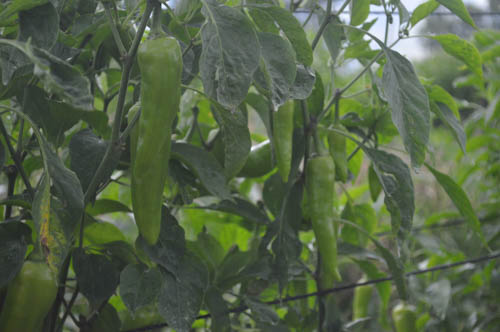ChiliPepper: (138, 41, 182, 177), (127, 106, 168, 238), (301, 158, 342, 274), (3, 263, 55, 332), (271, 103, 296, 178), (326, 123, 351, 179)
